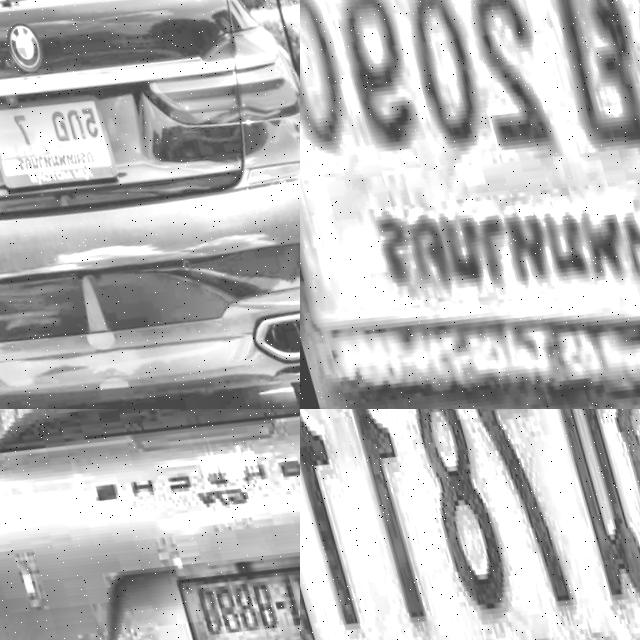license-plate: (300, 0, 640, 409), (300, 409, 640, 640), (164, 541, 300, 640), (0, 72, 112, 192)
